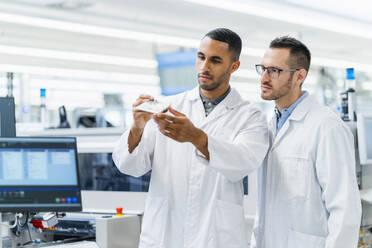Bata-Correcta: (113, 28, 268, 247), (250, 38, 360, 247)
